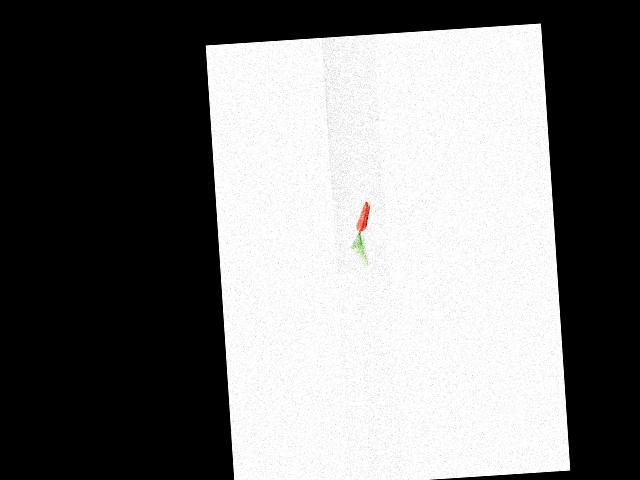carrot: (353, 199, 376, 233)
